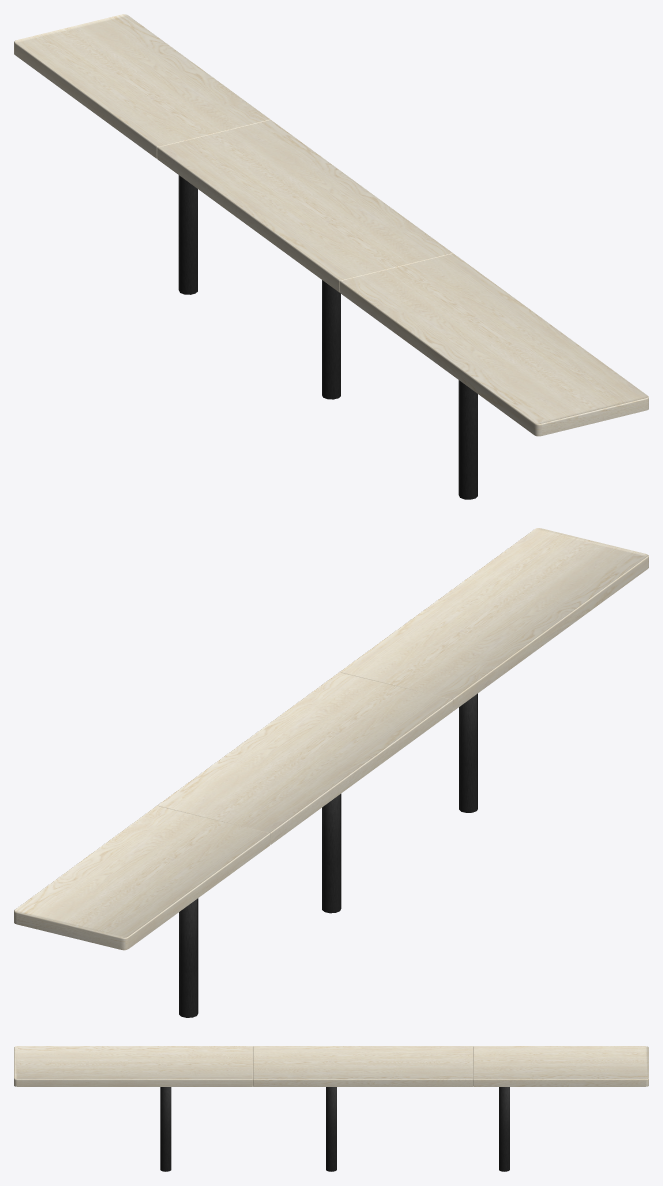
Rendered from aws_DeskB_01_visual.DAE.
3 views of the same model, one above another, from view 1: azimuth 30°, elevation 25°; view 2: azimuth 150°, elevation 25°; view 3: azimuth 270°, elevation 25° (orthographic). The views are drawn at different scales.
Parts seen in each view (by area): view 1: aws_DeskB_01_visual; view 2: aws_DeskB_01_visual; view 3: aws_DeskB_01_visual.
Boxes of the visible parts, box(x1,y1,x2,y2) form: aws_DeskB_01_visual: box(14, 14, 648, 499); aws_DeskB_01_visual: box(14, 528, 648, 1017); aws_DeskB_01_visual: box(14, 1046, 648, 1171).
Bounding box in the file's own units: 75.02 × 599 × 111.
